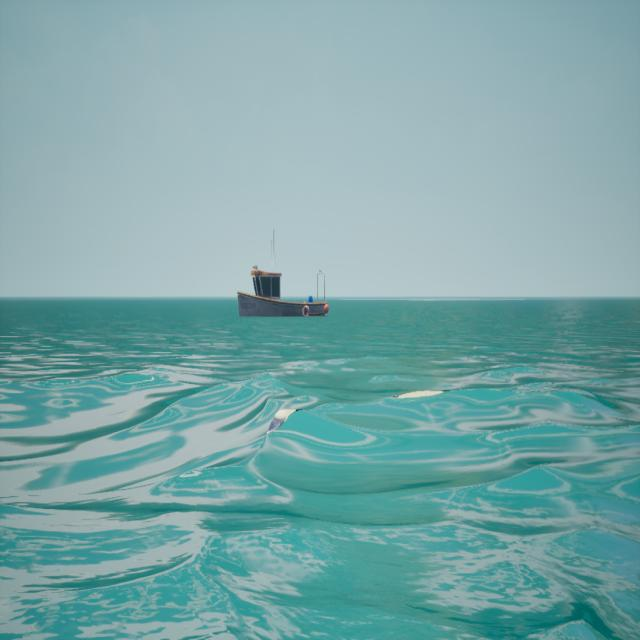ship: (230, 219, 336, 330)
